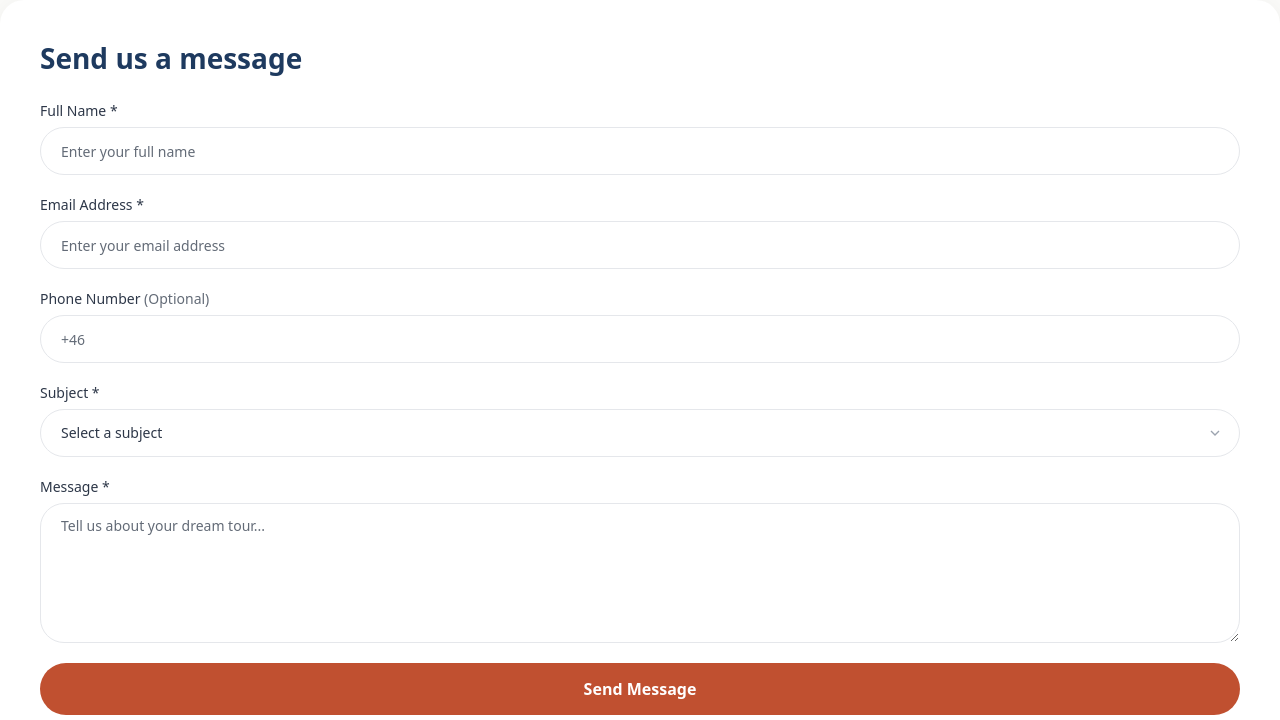
Test case: ContactForm › shows error message on failed submission
The image size is (1280, 720).
Type "Jane Doe" into the field labelled "Full Name *" at (640, 151), box [40,127,1240,175]
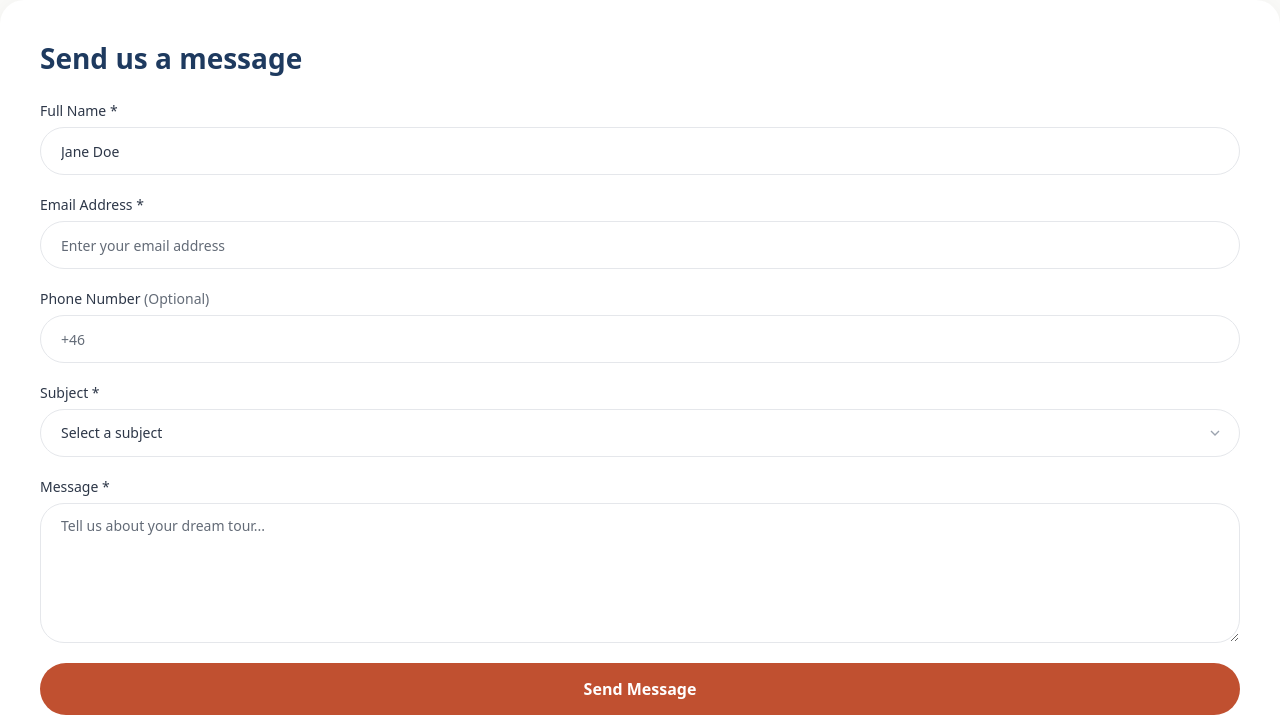
Type "jane@example.com" into the field labelled "Email Address *" at (640, 245), box [40,221,1240,269]
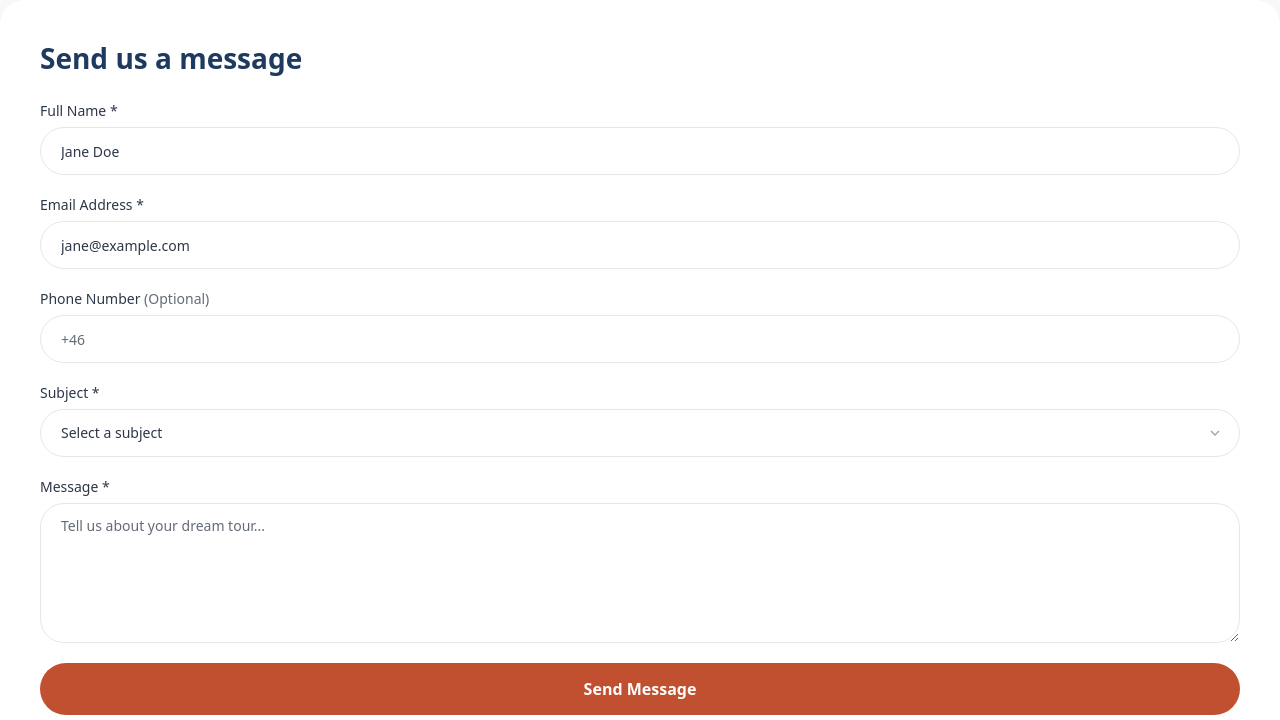
Select "General Inquiry" in the dropdown labelled "Subject *" at (640, 433), box [40,409,1240,457]
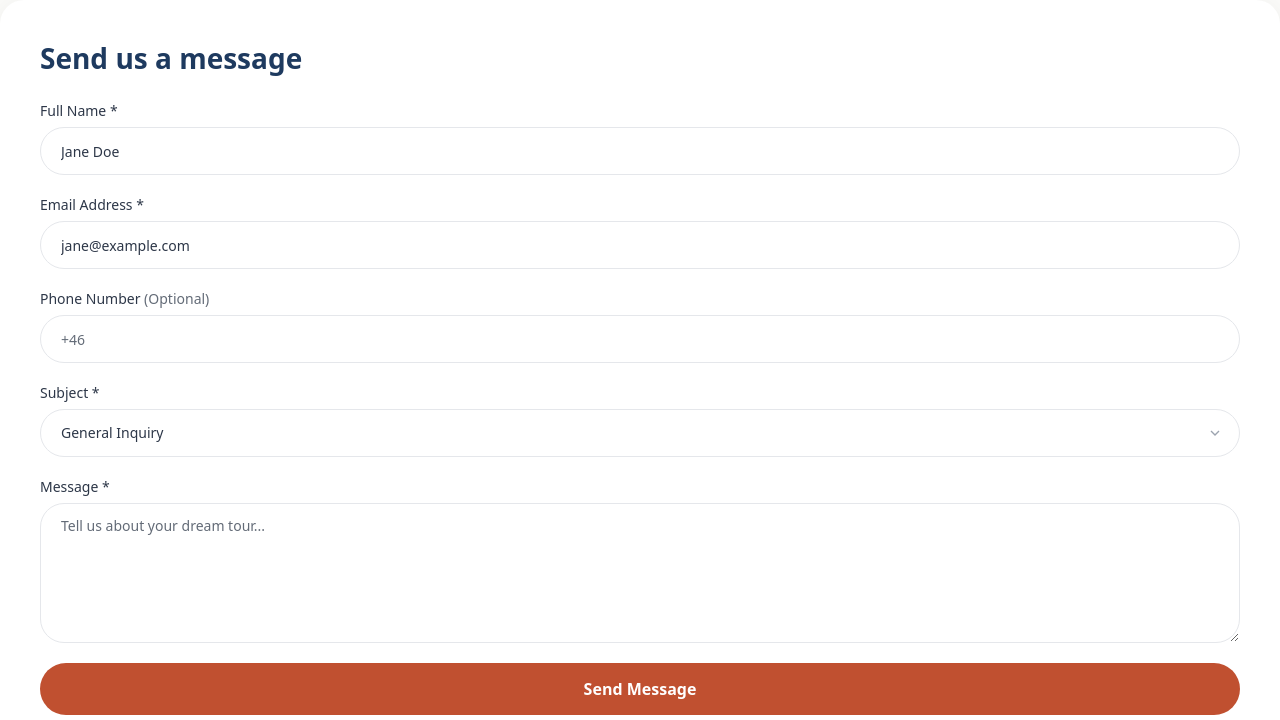
Type "This is a test message for the contact form." into the text box labelled "Message *" at (640, 573), box [40,503,1240,643]
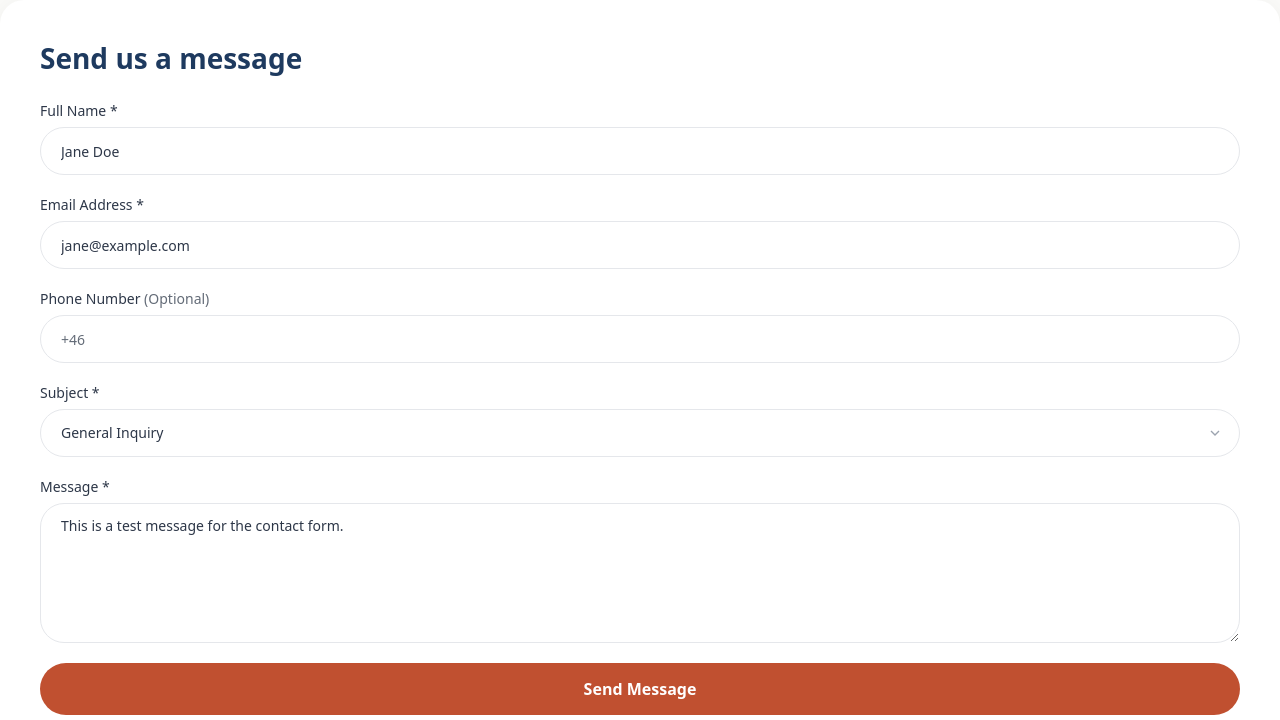
Click the button "Send Message" at (640, 689), box [40,663,1240,715]
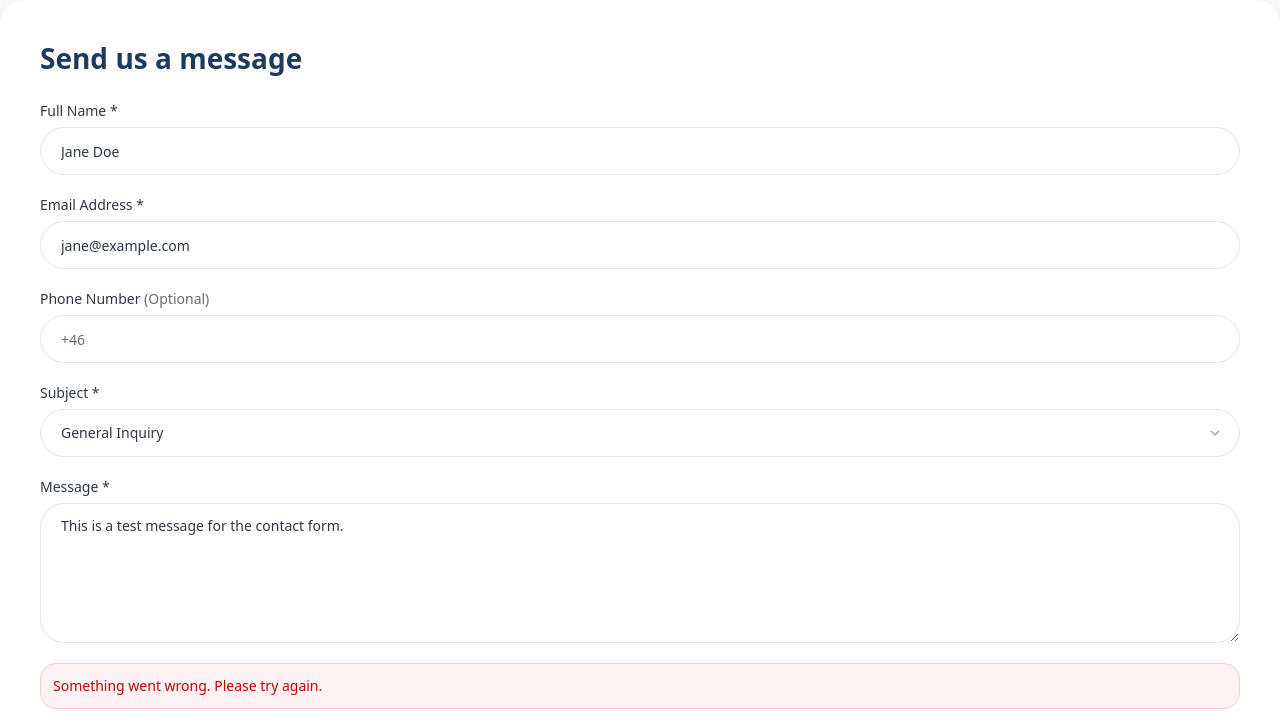
Check: the text "Something went wrong. Please try again." is shown, box [40,663,1240,709]
